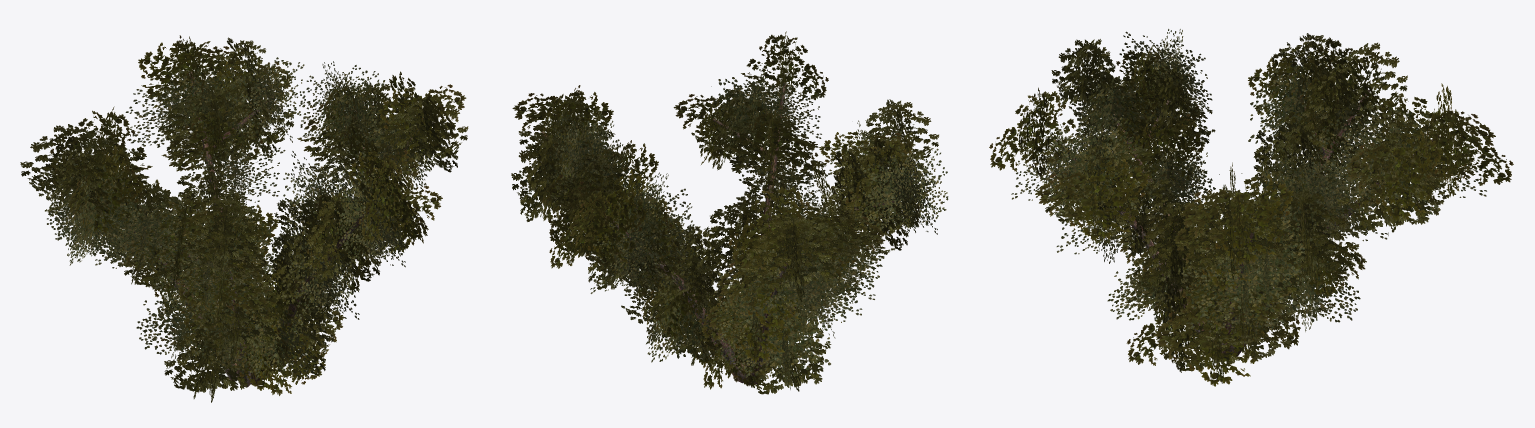
The model's file is bush_3d_01_lod0.glb.
The picture shows the model from 3 angles, left to right: view 1: azimuth 30°, elevation 25°; view 2: azimuth 150°, elevation 25°; view 3: azimuth 270°, elevation 25°; orthographic projection. The views are drawn at different scales.
Parts seen in each view (by area): view 1: foliage_cards, wood_geometry; view 2: foliage_cards, wood_geometry; view 3: foliage_cards, wood_geometry.
Part boxes in pixels (x1,y1,x2,y2): foliage_cards: (20, 35, 468, 402); wood_geometry: (108, 71, 418, 387); foliage_cards: (511, 31, 948, 394); wood_geometry: (541, 82, 894, 384); foliage_cards: (989, 29, 1513, 386); wood_geometry: (1052, 89, 1439, 361).
Bounding box in the file's own units: 2.02 × 1.29 × 2.12.
2 materials, 2 textured.
